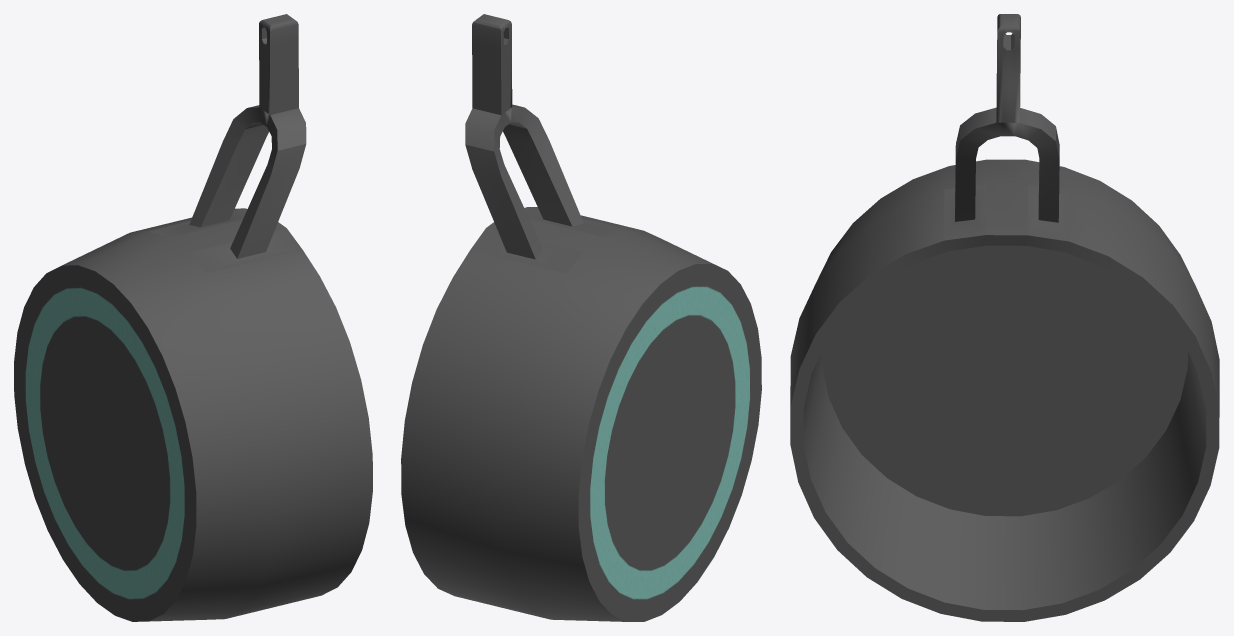
The model's file is KitchenPot.fbx.
3 renders of one model, left to right at view 1: azimuth 30°, elevation 25°; view 2: azimuth 150°, elevation 25°; view 3: azimuth 270°, elevation 25°, orthographic. The views are drawn at different scales.
Parts seen in each view (by area): view 1: KitchenPot_Baked; view 2: KitchenPot_Baked; view 3: KitchenPot_Baked.
Part boxes in pixels (box(x1,y1,x2,y2)): KitchenPot_Baked: box(14, 14, 372, 621); KitchenPot_Baked: box(401, 14, 761, 621); KitchenPot_Baked: box(790, 14, 1219, 621).
Bounding box in the file's own units: 13.08 × 36.84 × 23.65.
Materials: 1 (1 with a texture image).
